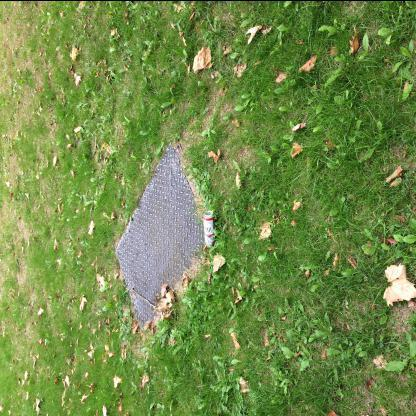metal: (204, 211, 216, 247)
